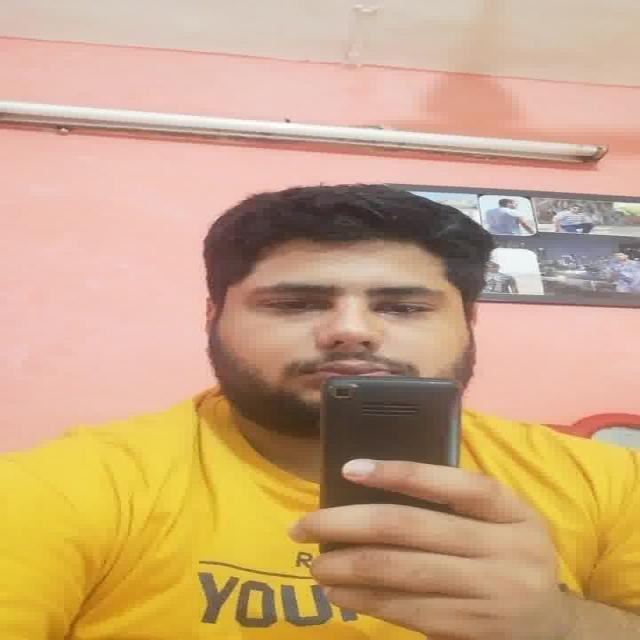Phone: (316, 374, 466, 508)
